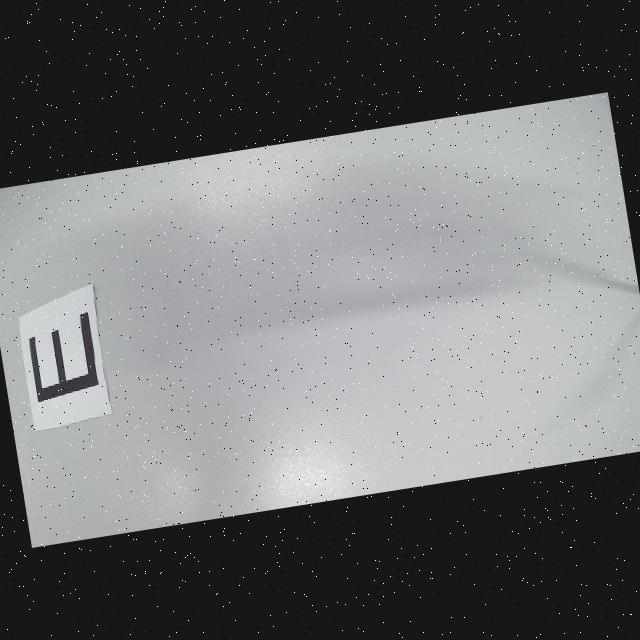FAKE: (24, 312, 101, 404)
